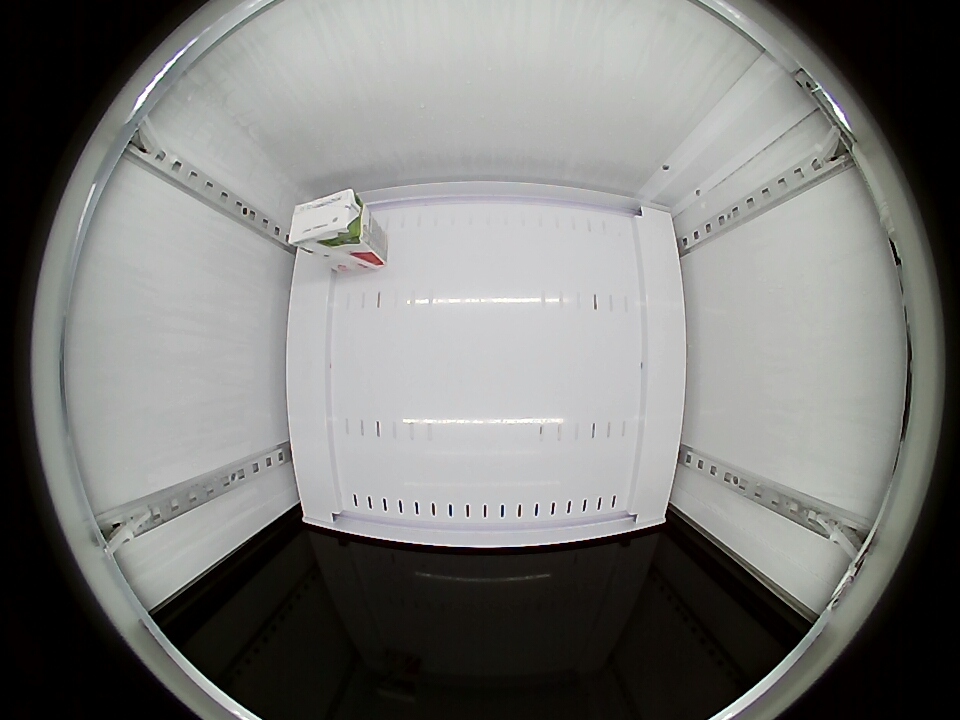mengniu: (288, 188, 367, 250)
